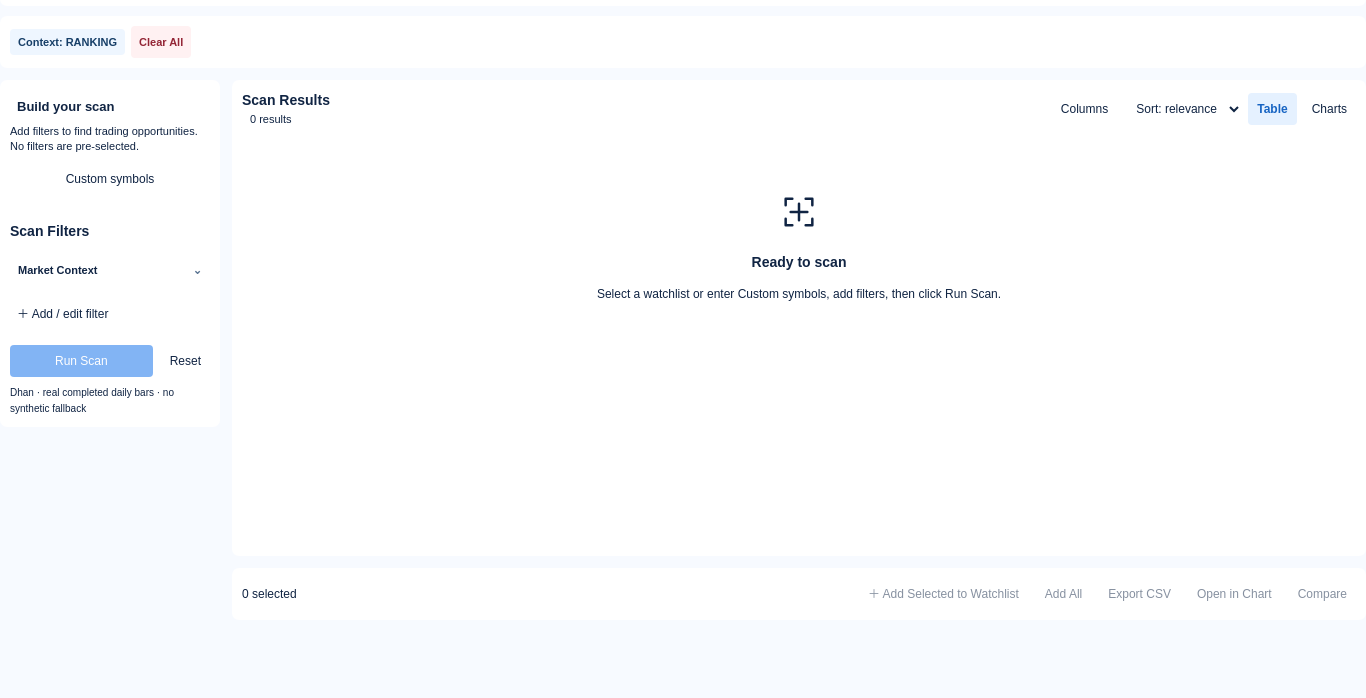
it: explicit real Dhan payload and acquisition failures never become no-match
Click the heading "＋ Add / edit filter" at [63, 314], box [17,307,108,321]
(page scrolled)
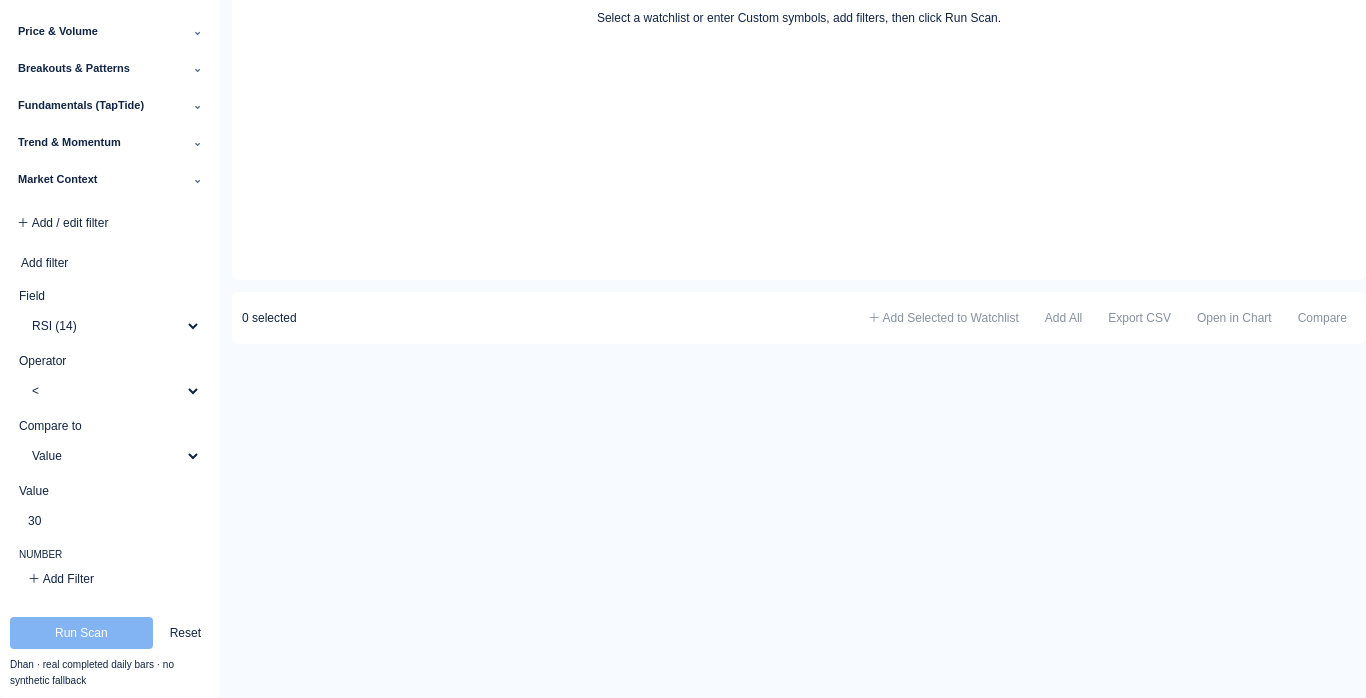
Click the button "＋ Add Filter" at [61, 579], box [19,563,103,595]
(page scrolled)
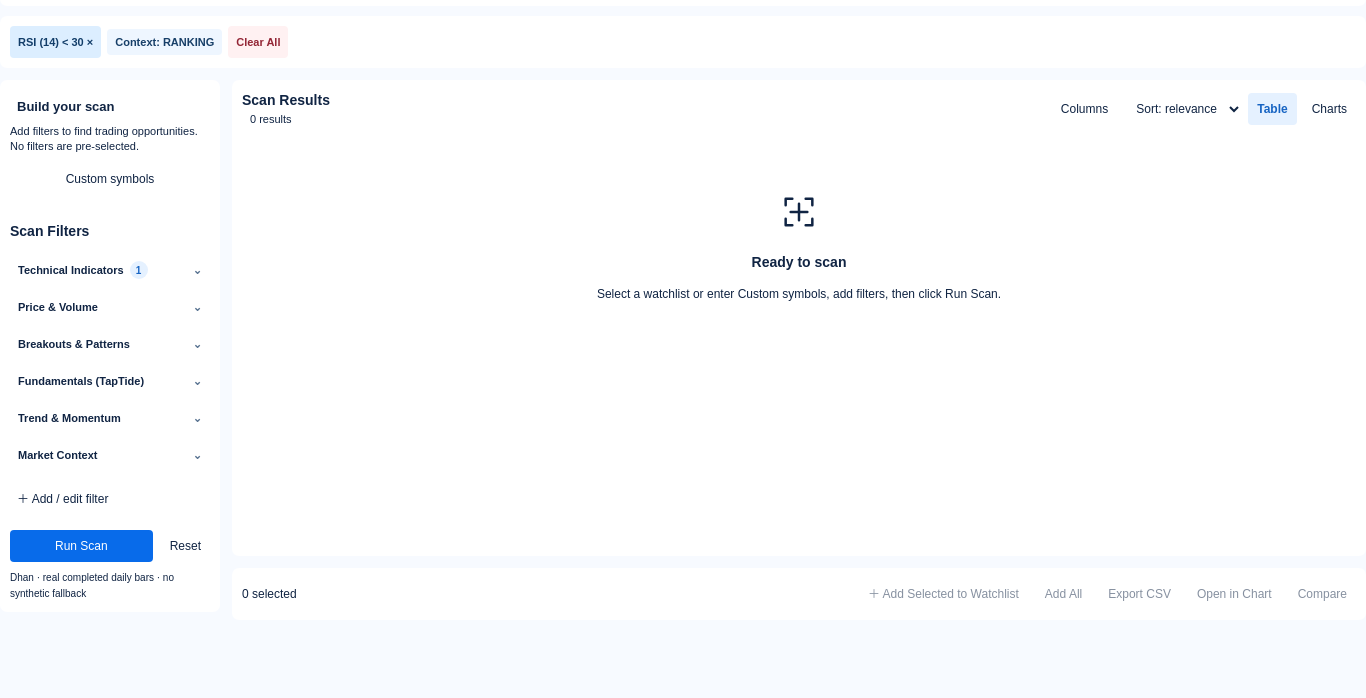
Click the button "Custom symbols" at [110, 179], box [10,163,210,195]
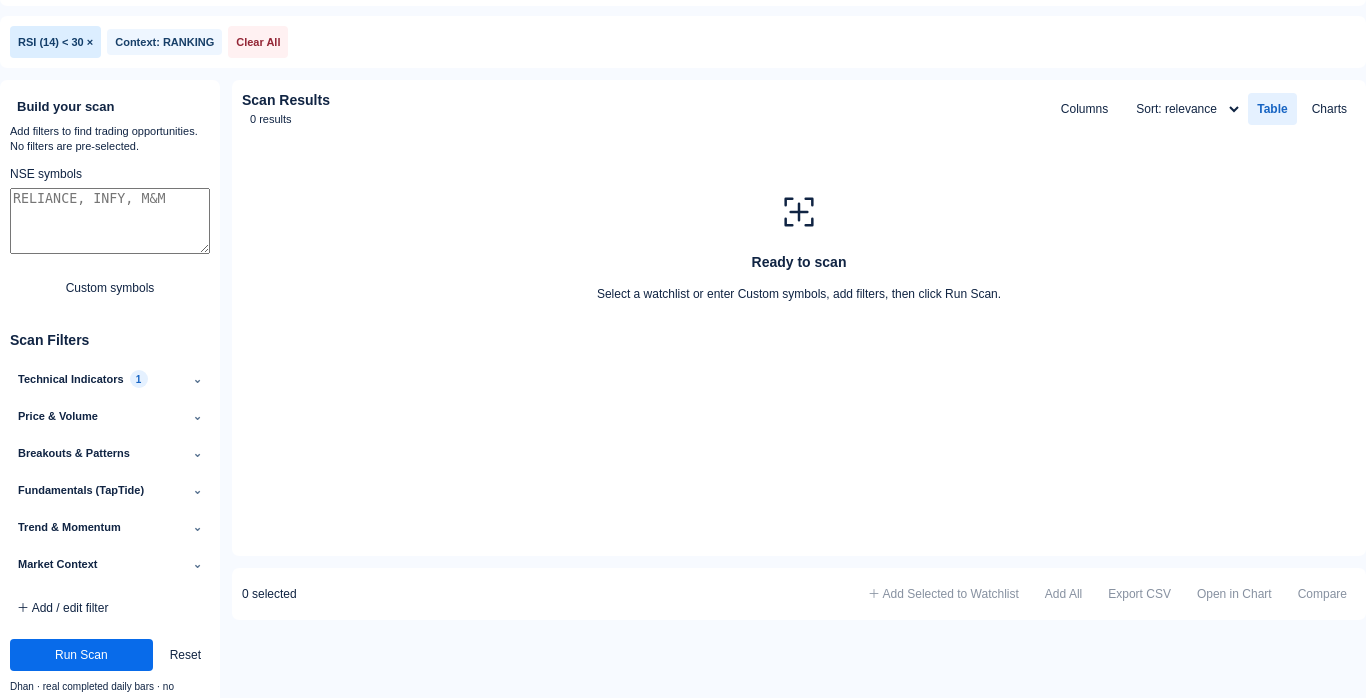
Type "INFY" into the text box labelled "NSE symbols" at [110, 221], box [10,188,210,254]
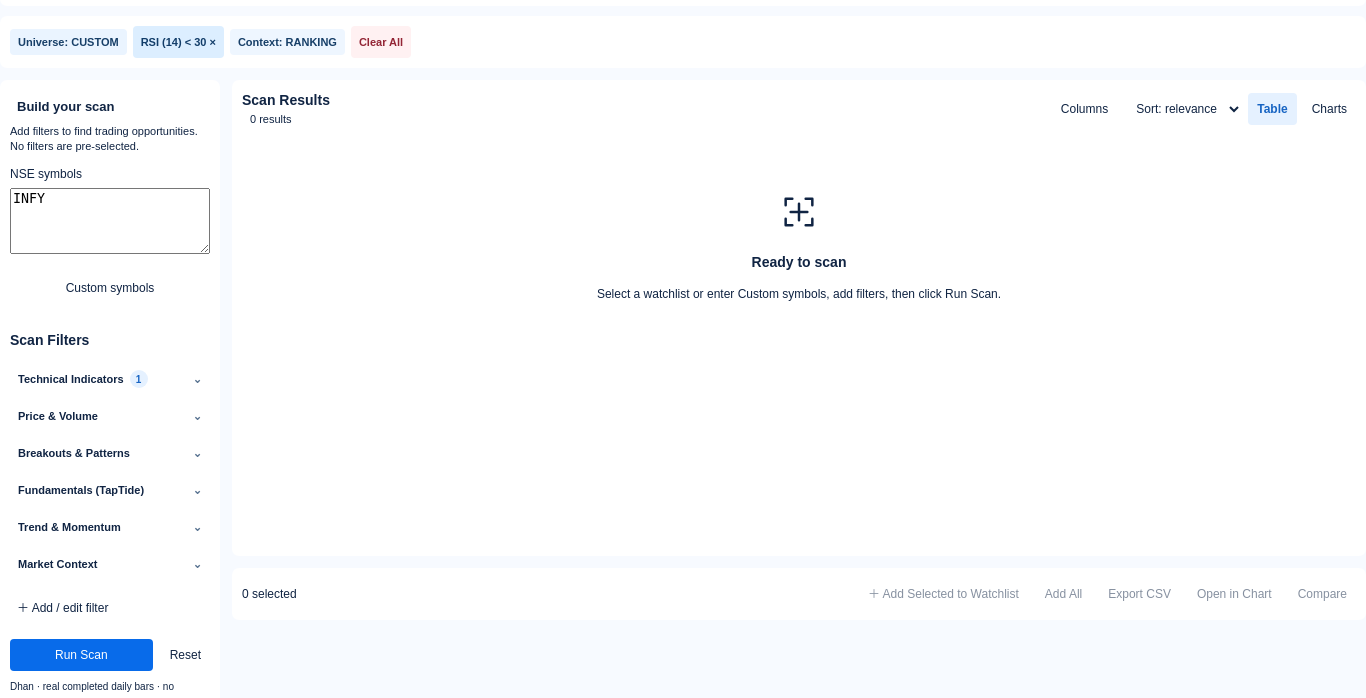
Click the button "Run Scan" at [81, 655], box [10,639,153,671]
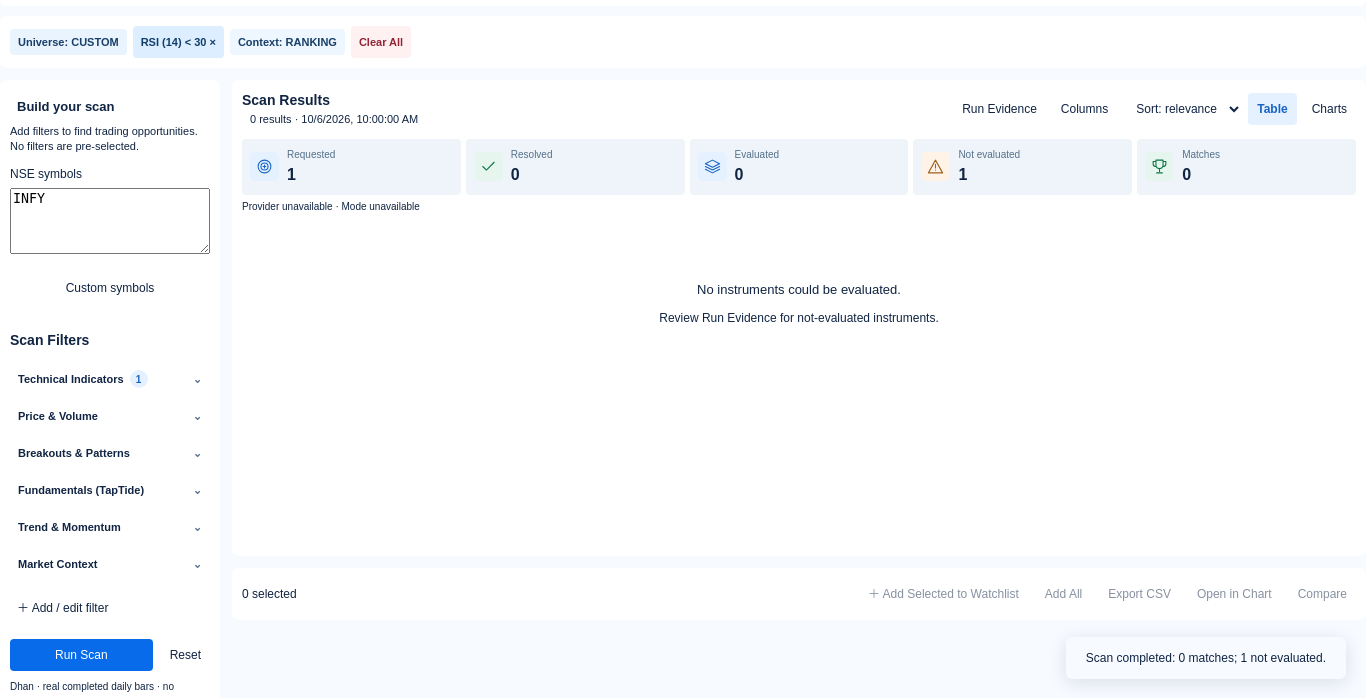
expect the heading "No instruments could be evaluated." is shown: met, box [697,282,901,297]
